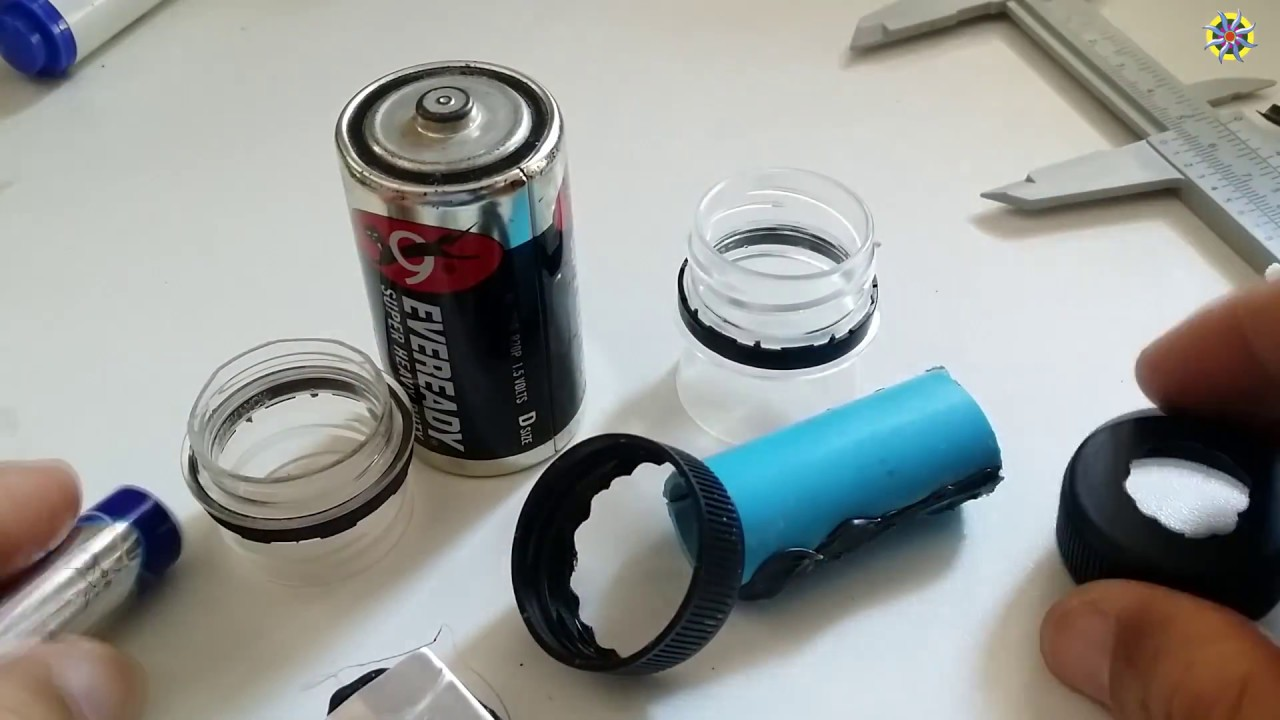Battery: (331, 55, 591, 483)
